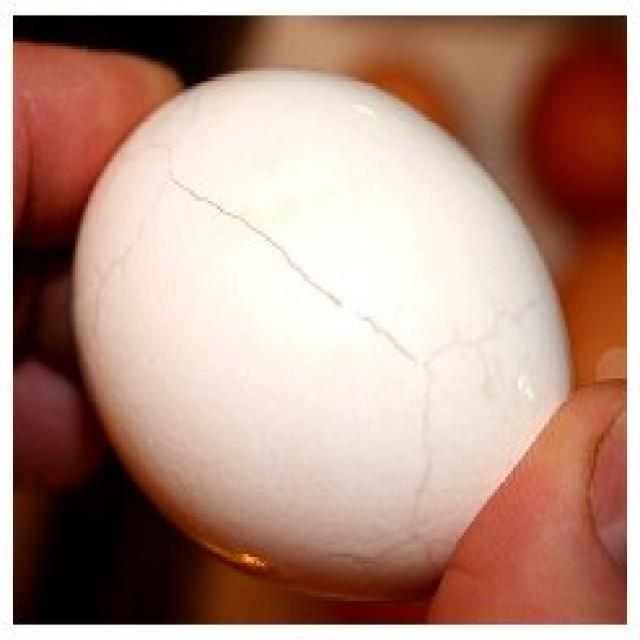biodegradable: (81, 52, 574, 595)
